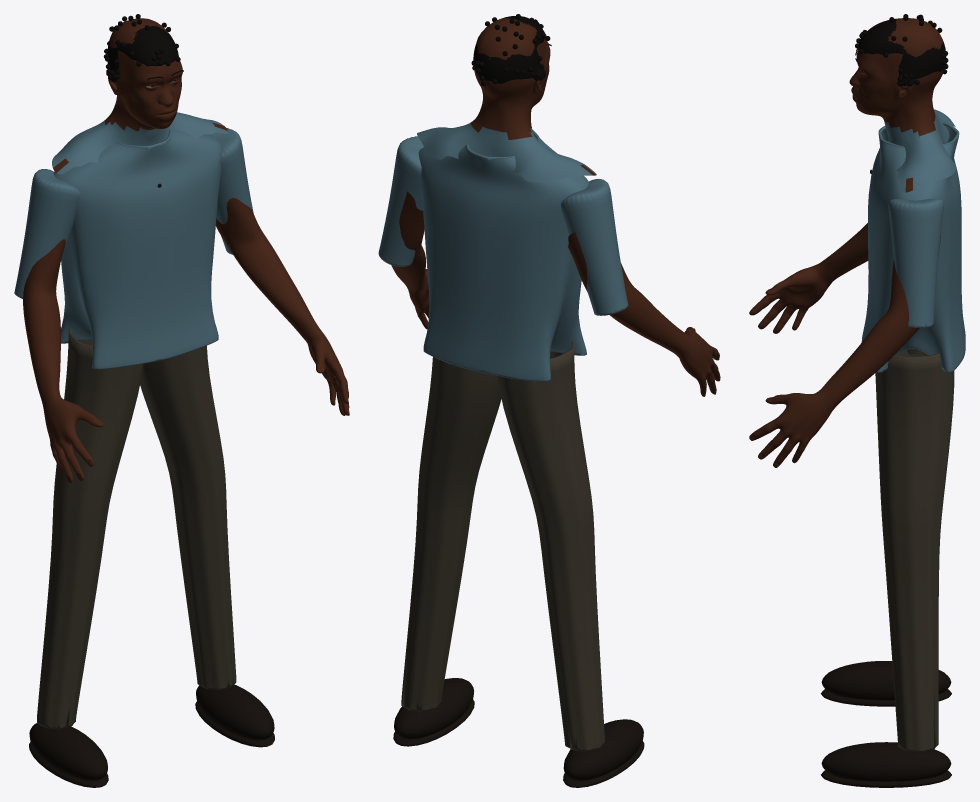
Rendered from amir.glb.
3 renders of one model, left to right at view 1: azimuth 30°, elevation 25°; view 2: azimuth 150°, elevation 25°; view 3: azimuth 270°, elevation 25°, orthographic.
Parts seen in each view (by area): view 1: Amir l linen sleeve, Amir l trouser leg, Amir anatomy, Amir leather loafer, Amir curl.037; view 2: Amir l trouser leg, Amir l linen sleeve, Amir anatomy, Amir leather loafer, Amir curl.037; view 3: Amir l trouser leg, Amir anatomy, Amir l linen sleeve, Amir leather loafer, Amir curl.037.
Boxes of the visible parts, <box> form: Amir l linen sleeve: <box>14,128,253,369</box>; Amir l trouser leg: <box>37,329,236,729</box>; Amir anatomy: <box>23,18,349,482</box>; Amir leather loafer: <box>29,183,274,787</box>; Amir curl.037: <box>103,14,183,81</box>; Amir l trouser leg: <box>401,341,604,751</box>; Amir l linen sleeve: <box>378,130,628,381</box>; Amir anatomy: <box>391,18,720,396</box>; Amir leather loafer: <box>393,678,644,787</box>; Amir curl.037: <box>471,14,551,85</box>; Amir l trouser leg: <box>875,348,954,752</box>; Amir anatomy: <box>749,18,956,467</box>; Amir l linen sleeve: <box>861,122,965,372</box>; Amir leather loafer: <box>821,169,951,787</box>; Amir curl.037: <box>855,14,948,86</box>.
Bounding box in the file's own units: 0.7638 × 1.84 × 0.5004.
